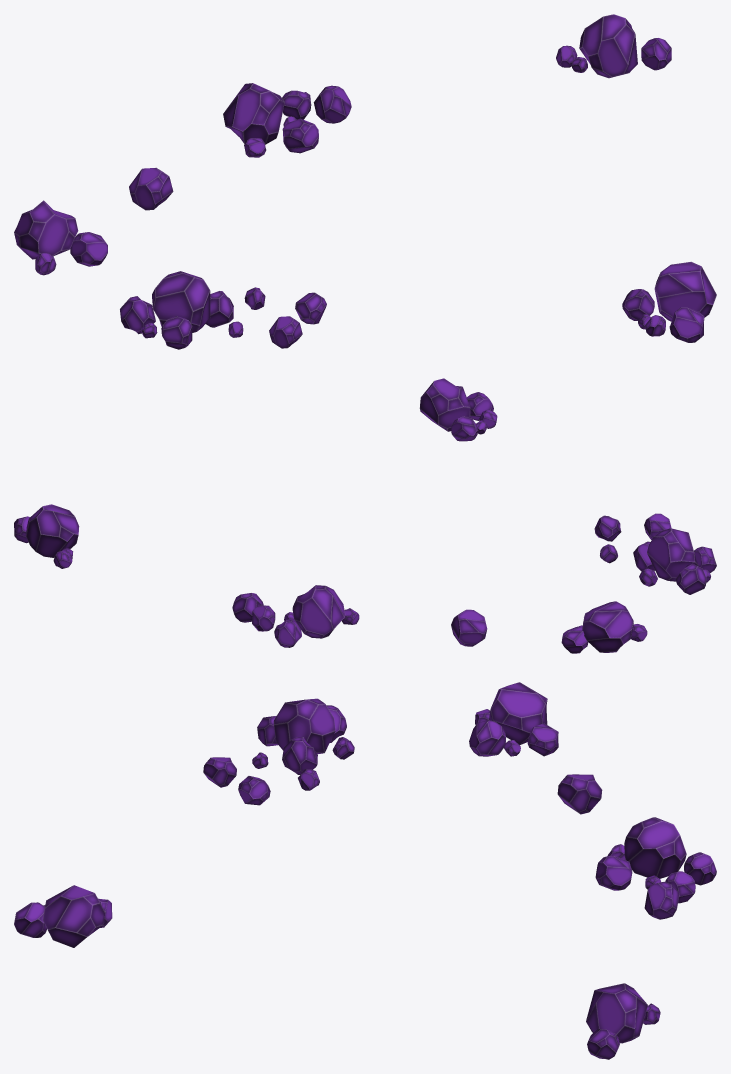
The model's file is m_rockOre_je_4.fbx.
3 renders of one model, top to bottom at view 1: azimuth 30°, elevation 25°; view 2: azimuth 150°, elevation 25°; view 3: azimuth 270°, elevation 25°, orthographic. The views are drawn at different scales.
Visible parts, largest first — view 1: polySurface299; view 2: polySurface299; view 3: polySurface299.
Boxes of the visible parts, x1,y1,x2,y2 form: polySurface299: (14,14,716,349); polySurface299: (14,378,716,653); polySurface299: (14,682,716,1059).
Size of the model in its own units: 6060 by 502 by 5318.
